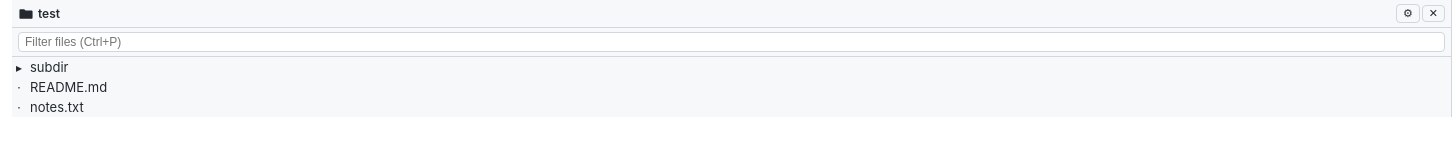
Test: 6.4 – filter hides non-matching files › clearing filter restores full tree
Check: the text "README.md" is shown, box left=30, top=79, right=107, bottom=95
Type "README" into the field labelled "Filter files". click: {"x": 732, "y": 42}
box: left=18, top=32, right=1445, bottom=52
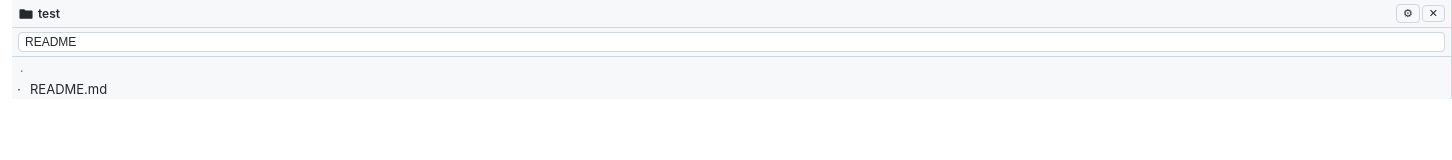
Check: the option "notes.txt" is gone
Clear the field named "Filter files". click: {"x": 732, "y": 42}
box: left=18, top=32, right=1445, bottom=52
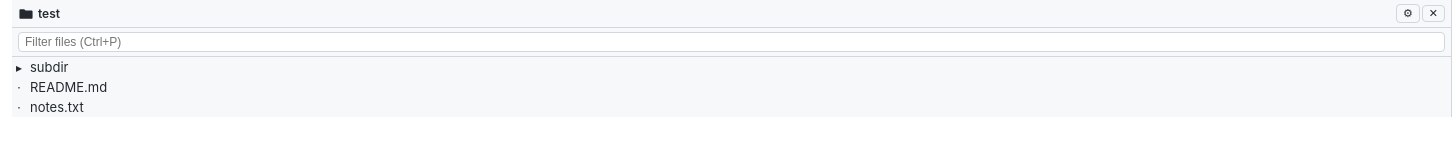
Check: the text "README.md" is shown, box left=30, top=79, right=107, bottom=95
Check: the text "notes.txt" is shown, box left=30, top=99, right=84, bottom=115
